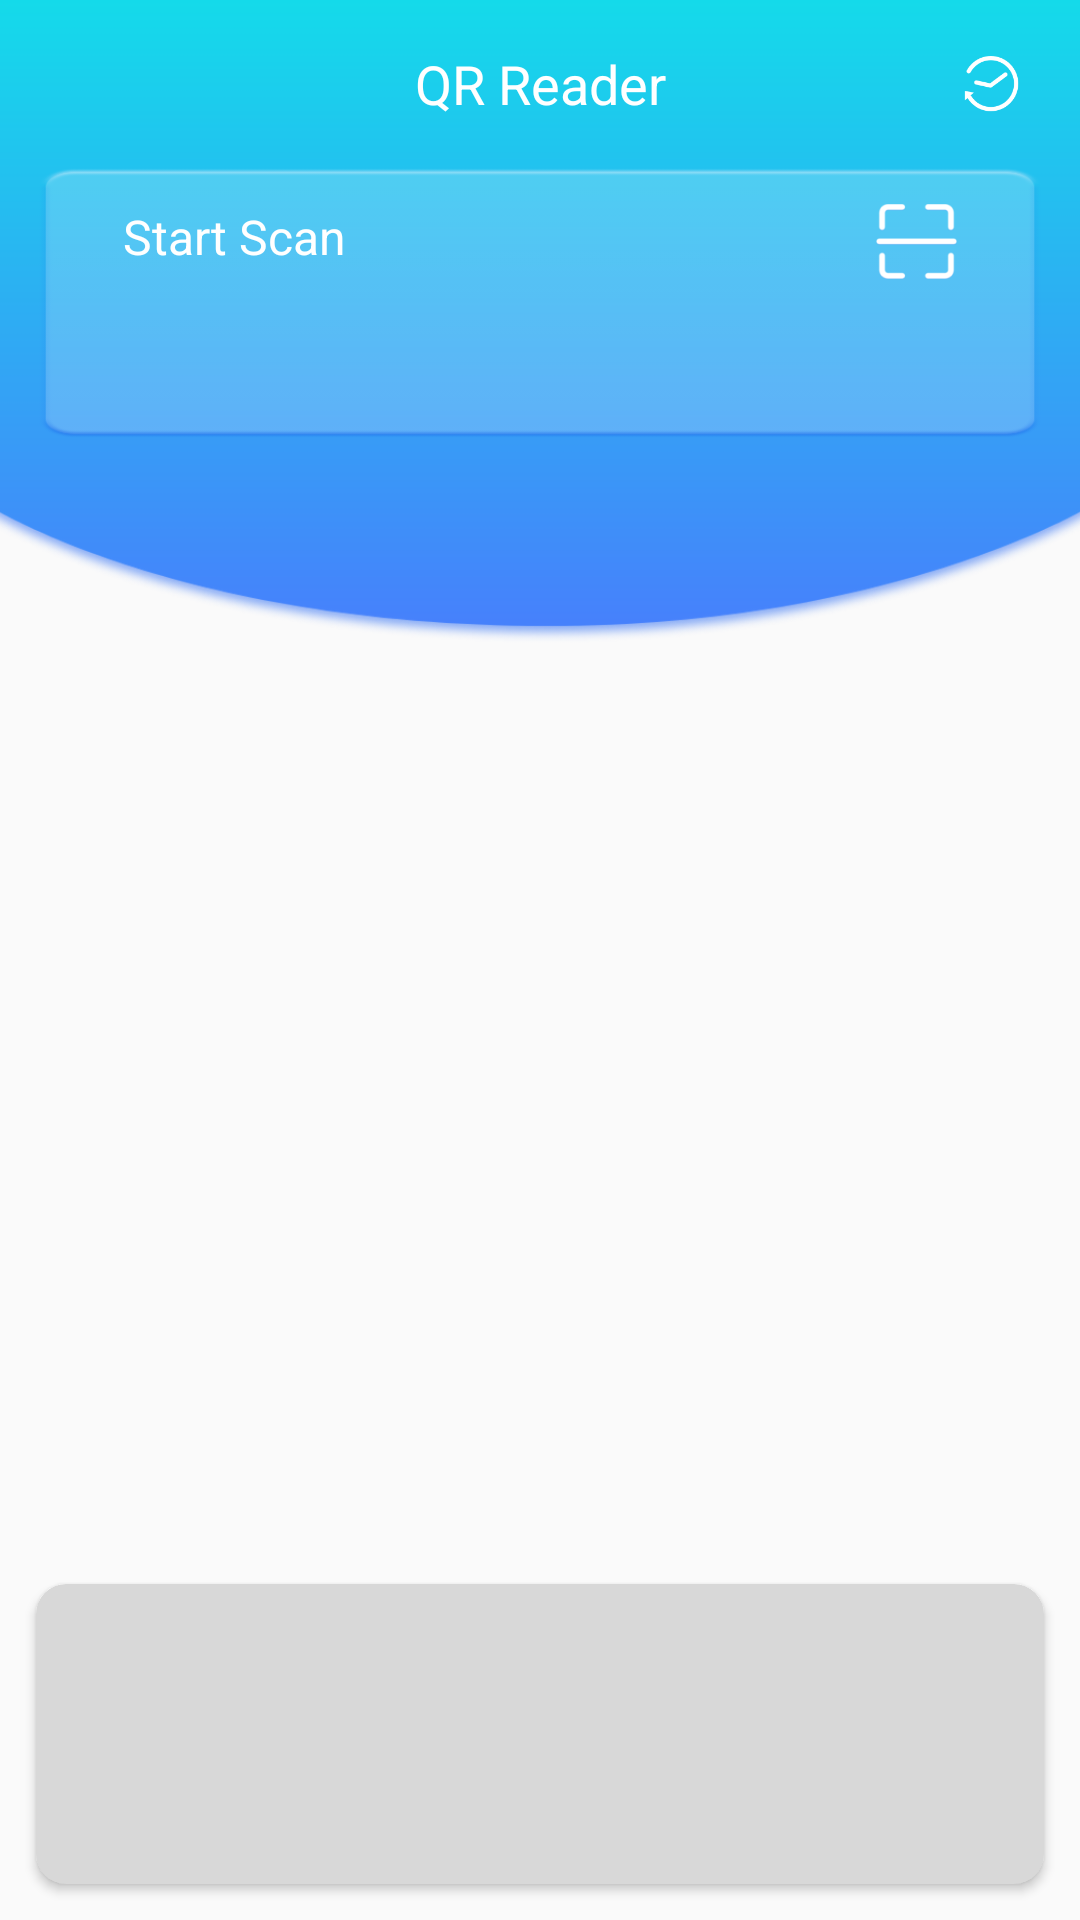

Where icons sit on this 1080*1920 app screen, as (left=x1, top=y1, right=x2, bottom=y2):
history: (left=965, top=56, right=1019, bottom=112)
home scanner: (left=876, top=204, right=957, bottom=279)
